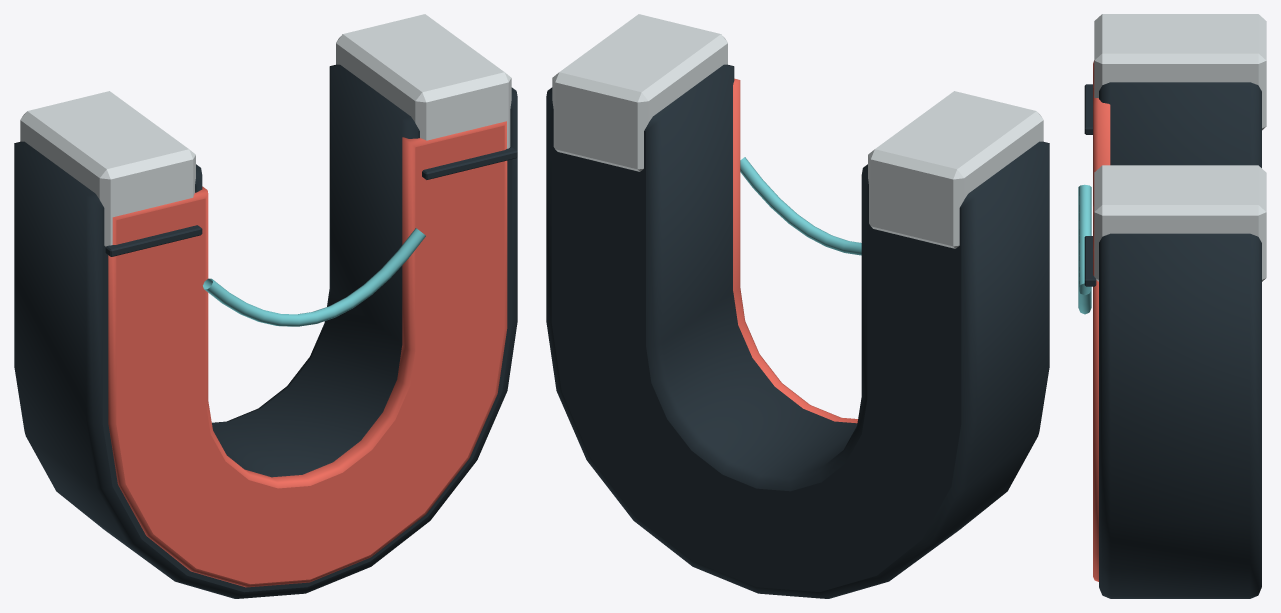
Rendered from magnet_v1.glb.
3 renders of one model, left to right at view 1: azimuth 30°, elevation 25°; view 2: azimuth 150°, elevation 25°; view 3: azimuth 270°, elevation 25°, orthographic.
Parts seen in each view (by area): view 1: Magnet / coral enamel face, Magnet / ink rim and sidewalls, Magnet / left pole tip, Magnet / right pole tip, Magnet / field arc, Magnet / left pole ink seam, Magnet / right pole ink seam; view 2: Magnet / ink rim and sidewalls, Magnet / right pole tip, Magnet / left pole tip, Magnet / coral enamel face, Magnet / field arc; view 3: Magnet / ink rim and sidewalls, Magnet / right pole tip, Magnet / left pole tip, Magnet / coral enamel face, Magnet / field arc, Magnet / right pole ink seam, Magnet / left pole ink seam.
Boxes of the visible parts, bbox=[...] form: Magnet / coral enamel face: bbox=[108, 121, 507, 587]; Magnet / ink rim and sidewalls: bbox=[14, 64, 517, 598]; Magnet / left pole tip: bbox=[20, 91, 195, 246]; Magnet / right pole tip: bbox=[336, 14, 511, 148]; Magnet / field arc: bbox=[203, 228, 425, 326]; Magnet / left pole ink seam: bbox=[105, 225, 202, 256]; Magnet / right pole ink seam: bbox=[422, 147, 517, 179]; Magnet / ink rim and sidewalls: bbox=[546, 64, 1049, 598]; Magnet / right pole tip: bbox=[552, 14, 727, 171]; Magnet / left pole tip: bbox=[868, 91, 1043, 248]; Magnet / coral enamel face: bbox=[733, 78, 857, 423]; Magnet / field arc: bbox=[740, 157, 861, 255]; Magnet / ink rim and sidewalls: bbox=[1099, 82, 1261, 598]; Magnet / right pole tip: bbox=[1094, 165, 1266, 281]; Magnet / left pole tip: bbox=[1094, 14, 1266, 130]; Magnet / coral enamel face: bbox=[1093, 60, 1110, 581]; Magnet / field arc: bbox=[1078, 184, 1091, 314]; Magnet / right pole ink seam: bbox=[1084, 236, 1096, 286]; Magnet / left pole ink seam: bbox=[1084, 84, 1092, 134].
Bounding box in the file's own units: 1.05 × 1.11 × 0.404.
